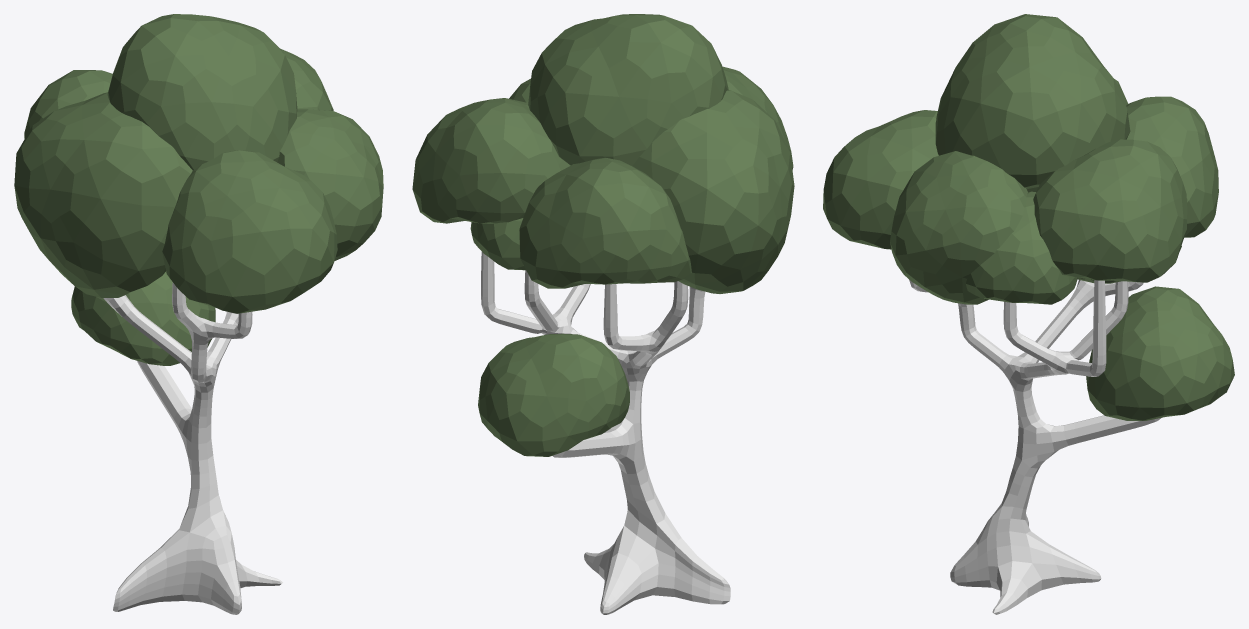
File: Tree.fbx
The picture shows the model from 3 angles, left to right: view 1: azimuth 30°, elevation 25°; view 2: azimuth 150°, elevation 25°; view 3: azimuth 270°, elevation 25°; orthographic projection. The views are drawn at different scales.
Visible parts, largest first — view 1: Origin Leaves.LOD1, Origin Bark.LOD1; view 2: Origin Leaves.LOD1, Origin Bark.LOD1; view 3: Origin Leaves.LOD1, Origin Bark.LOD1.
Part boxes in pixels (x1,y1,x2,y2): Origin Leaves.LOD1: (14, 14, 383, 365); Origin Bark.LOD1: (103, 282, 282, 614); Origin Leaves.LOD1: (412, 14, 794, 456); Origin Bark.LOD1: (481, 251, 730, 614); Origin Leaves.LOD1: (823, 14, 1234, 420); Origin Bark.LOD1: (909, 279, 1161, 614).
Size of the model in its own units: 15.28 by 17.44 by 25.99.
